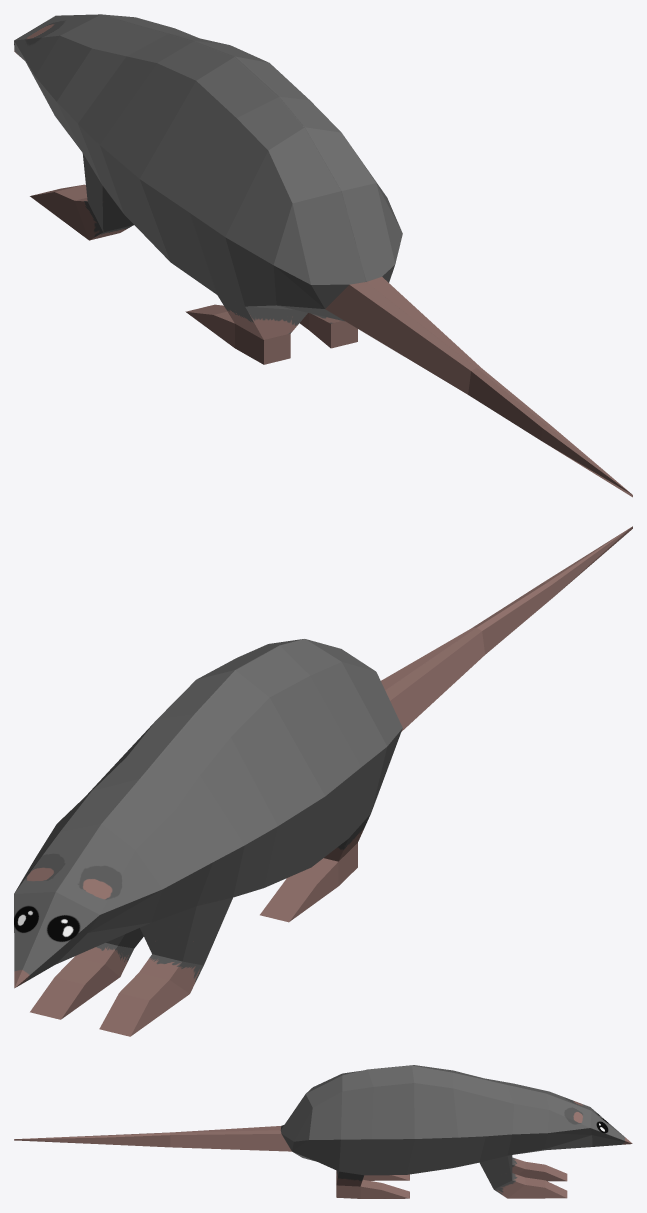
File: Gerat.fbx
The picture shows the model from 3 angles, top to bottom: view 1: azimuth 30°, elevation 25°; view 2: azimuth 150°, elevation 25°; view 3: azimuth 270°, elevation 25°; orthographic projection. The views are drawn at different scales.
Parts seen in each view (by area): view 1: Plane; view 2: Plane; view 3: Plane.
Boxes of the visible parts, x1=… form: Plane: x1=14, y1=14, x2=632, y2=497; Plane: x1=14, y1=526, x2=632, y2=1036; Plane: x1=14, y1=1065, x2=632, y2=1198.
Size of the model in its own units: 62.83 by 78.17 by 363.
1 material, 1 textured.
